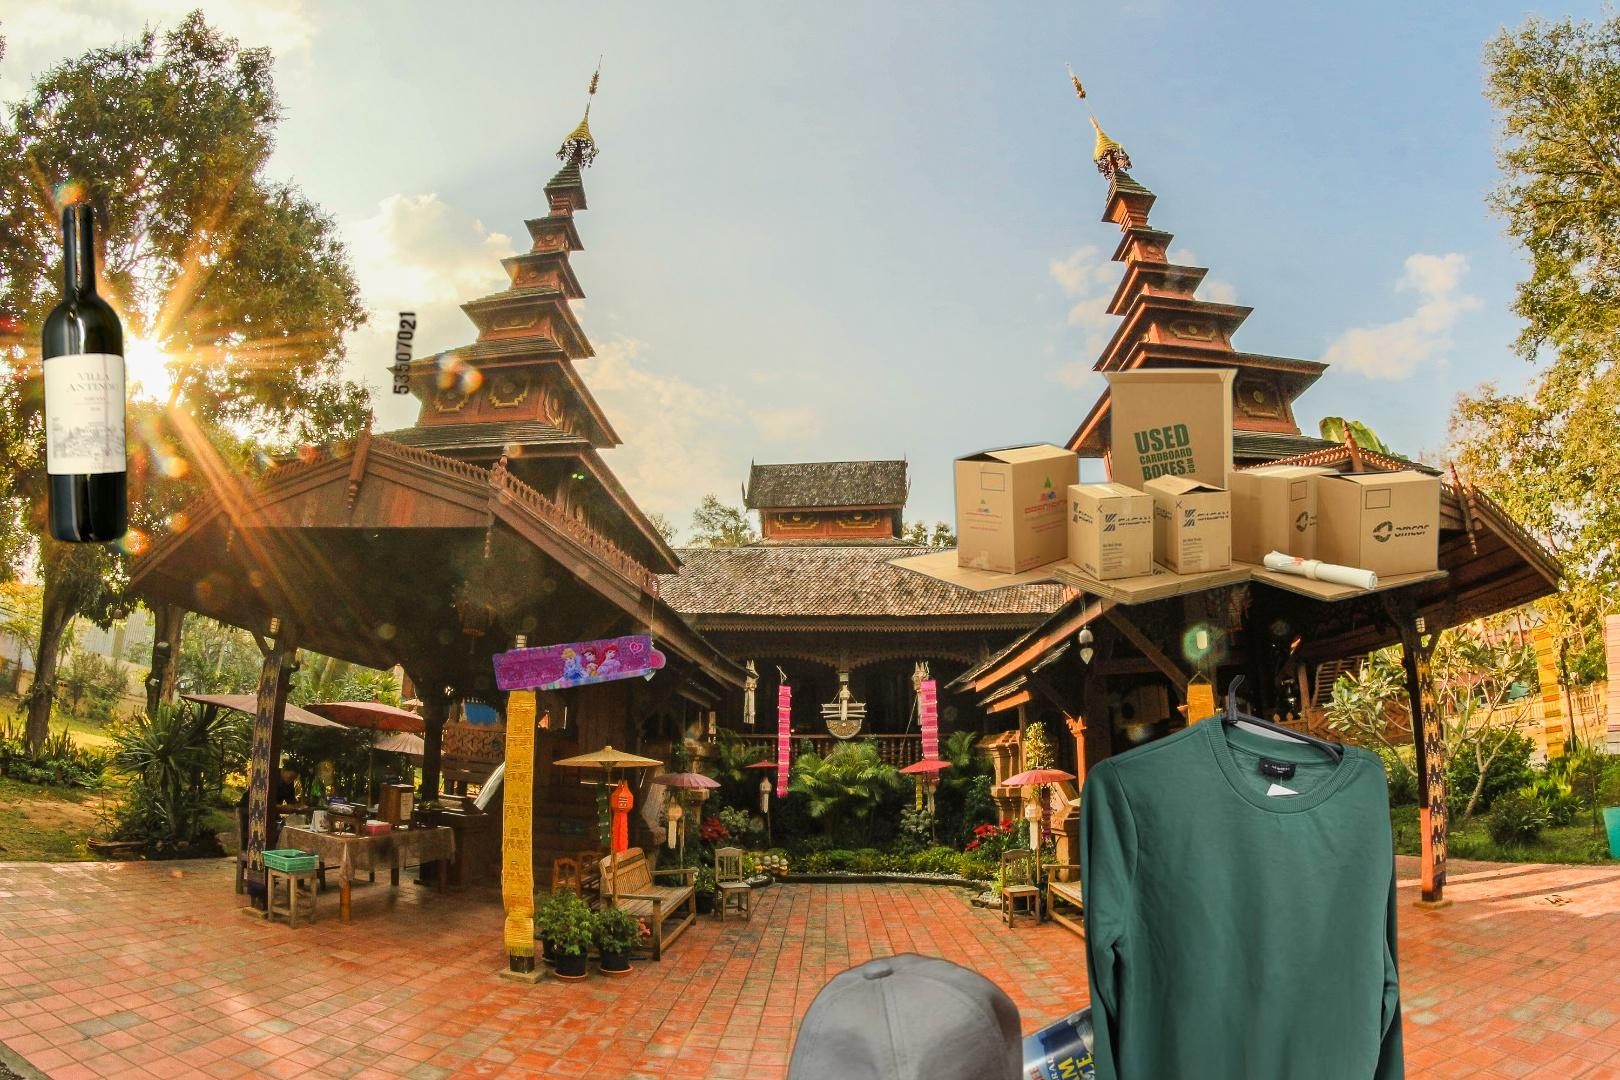biological: (1039, 1041, 1424, 1080)
clothes: (1076, 675, 1409, 1080), (782, 949, 1046, 1080)
glass: (37, 196, 133, 550), (950, 984, 1195, 1080)
penholder: (475, 629, 669, 699)
trashbox-cardboard: (92, 196, 497, 581), (879, 363, 1455, 611)
